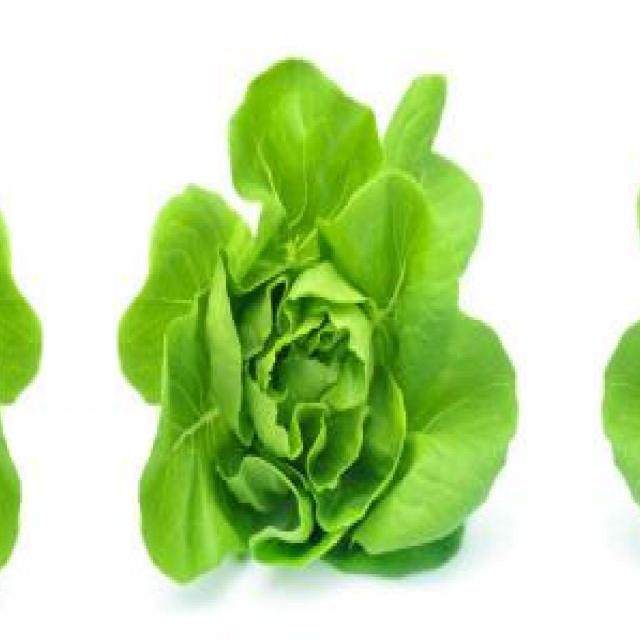healthy: (118, 50, 514, 584), (0, 50, 42, 584), (606, 50, 640, 584)
